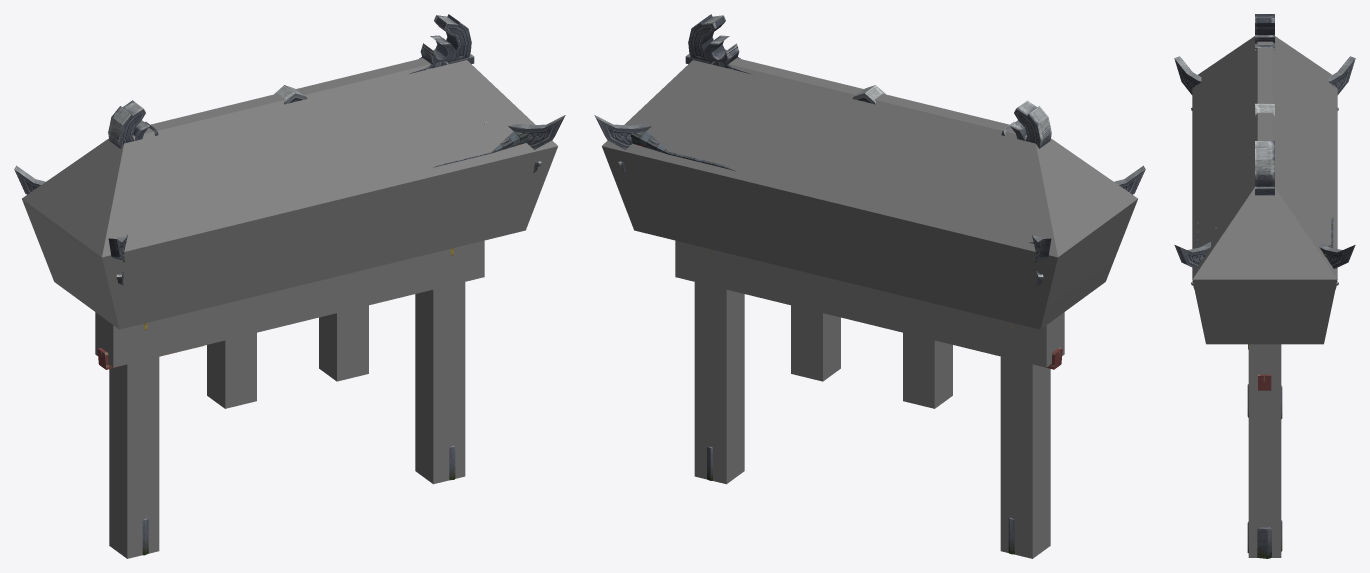
File: Scene_Build_LiangShan_ChuShengDian_1.FBX
3 views of the same model, side by side, from view 1: azimuth 30°, elevation 25°; view 2: azimuth 150°, elevation 25°; view 3: azimuth 270°, elevation 25° (orthographic). The views are drawn at different scales.
Visible parts, largest first — view 1: Scene_Build_LiangShan_ChuShengDian_1_Xzm, Scene_Build_LiangShan_ChuShengDian_1a, Scene_Build_LiangShan_ChuShengDian_1b; view 2: Scene_Build_LiangShan_ChuShengDian_1_Xzm, Scene_Build_LiangShan_ChuShengDian_1a, Scene_Build_LiangShan_ChuShengDian_1b; view 3: Scene_Build_LiangShan_ChuShengDian_1_Xzm, Scene_Build_LiangShan_ChuShengDian_1a, Scene_Build_LiangShan_ChuShengDian_1b.
Part boxes in pixels (x1,y1,x2,y2): Scene_Build_LiangShan_ChuShengDian_1_Xzm: (22,58,557,558); Scene_Build_LiangShan_ChuShengDian_1a: (14,14,565,285); Scene_Build_LiangShan_ChuShengDian_1b: (97,248,455,555); Scene_Build_LiangShan_ChuShengDian_1_Xzm: (602,58,1137,558); Scene_Build_LiangShan_ChuShengDian_1a: (594,14,1145,285); Scene_Build_LiangShan_ChuShengDian_1b: (707,249,1062,554); Scene_Build_LiangShan_ChuShengDian_1_Xzm: (1192,36,1337,557); Scene_Build_LiangShan_ChuShengDian_1a: (1174,14,1355,288); Scene_Build_LiangShan_ChuShengDian_1b: (1247,344,1282,558).
Size of the model in its own units: 1662 by 1578 by 632.
